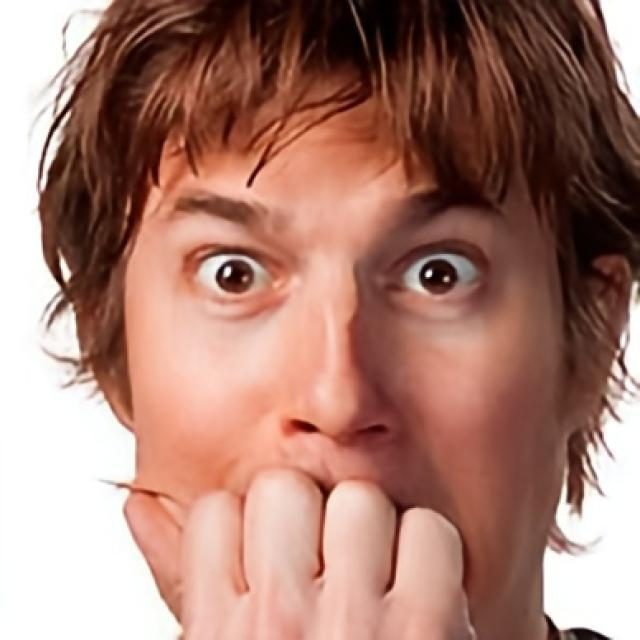fear: (121, 44, 568, 640)
